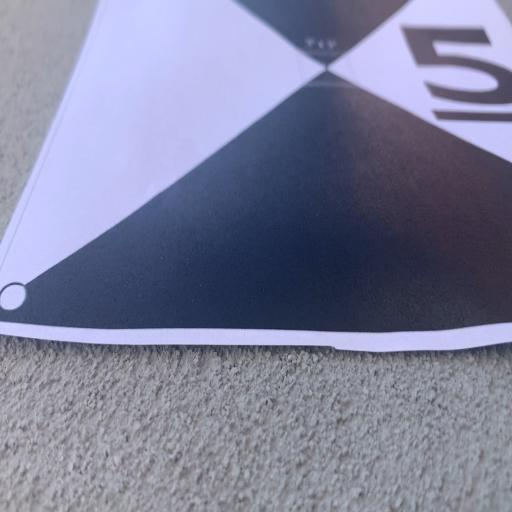target5: (0, 1, 512, 343)
